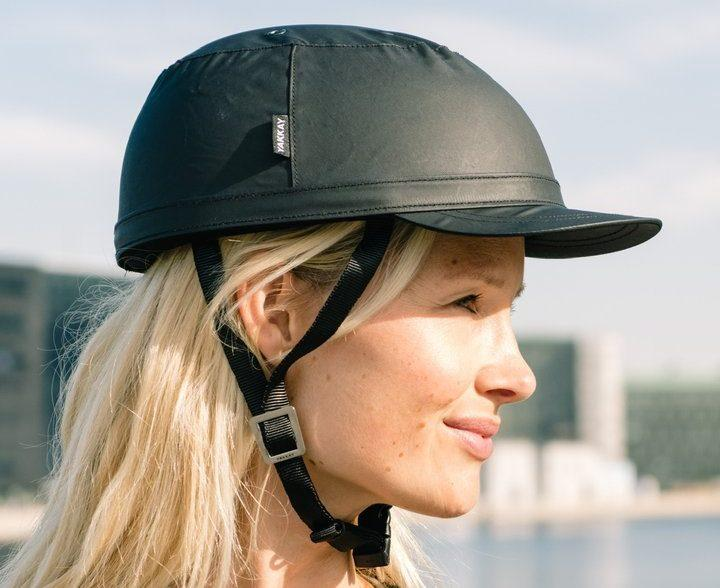helmet: (80, 17, 710, 317)
